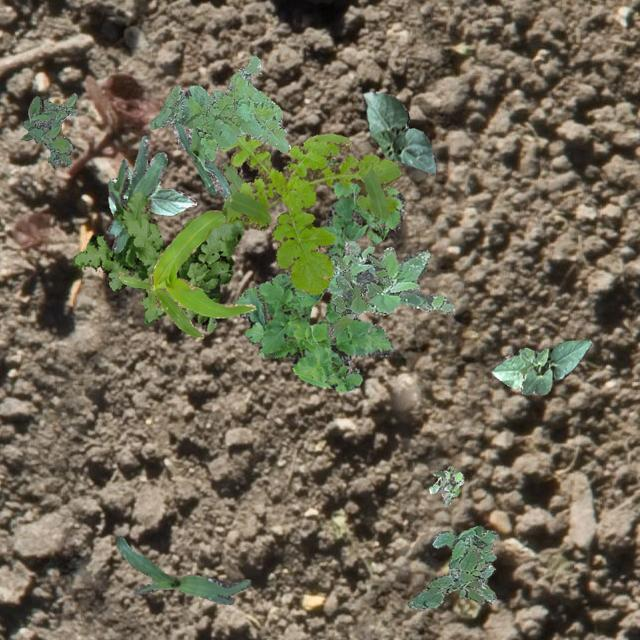crop: (118, 208, 255, 338), (114, 534, 250, 604), (106, 134, 166, 252), (362, 92, 436, 174), (490, 338, 590, 394), (171, 122, 231, 200), (108, 163, 196, 214)
weed: (233, 157, 404, 390), (72, 160, 245, 332), (220, 132, 400, 294), (148, 54, 290, 160), (324, 240, 454, 314), (328, 250, 392, 338), (432, 524, 498, 602), (406, 548, 484, 608), (20, 92, 76, 168), (428, 464, 462, 506)
